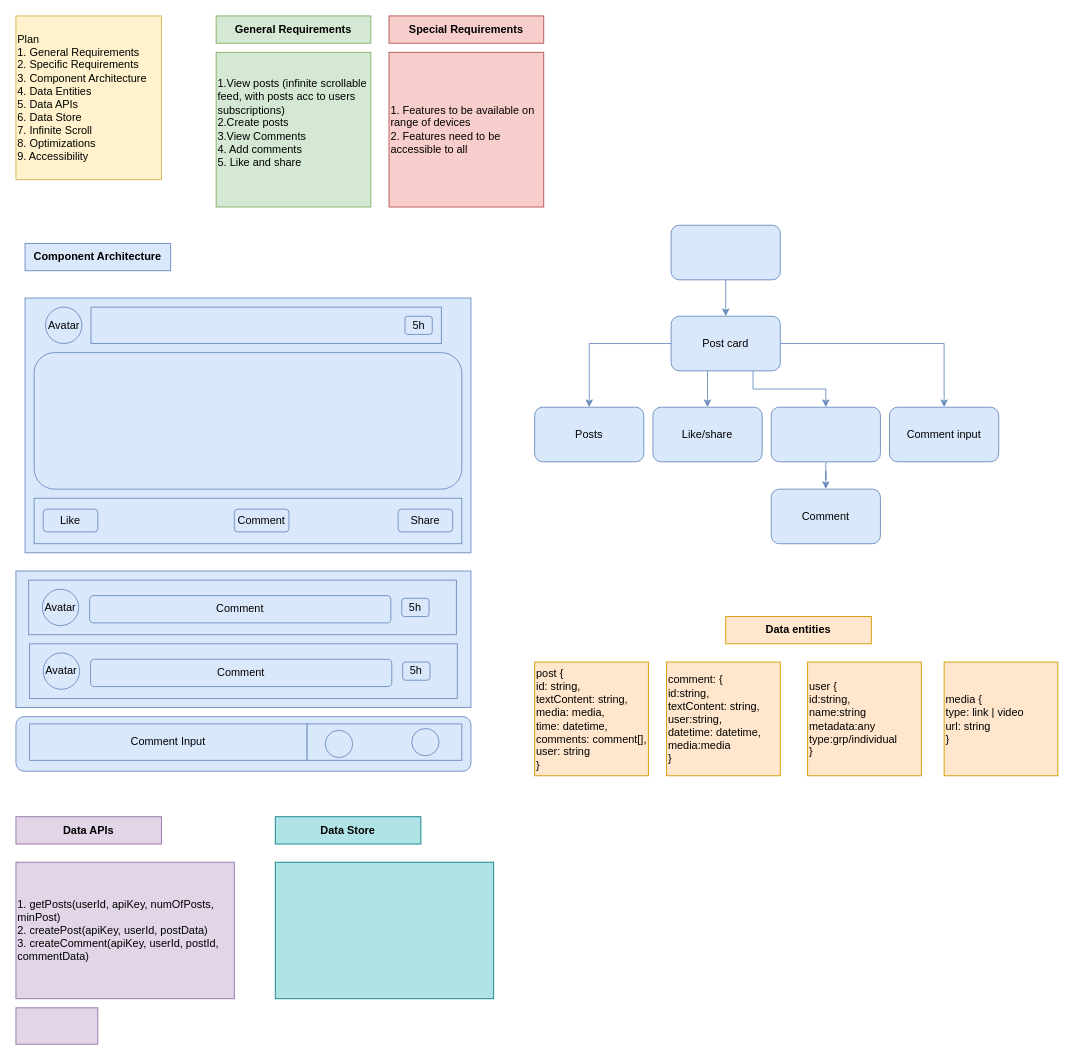
Some shapes in this 1074 by 1060 pixel diagram are drawn without their labels. Each missing label, with the box of its shape:
Comment list: (770, 406, 880, 462)
Content Image/text: (33, 352, 462, 489)
John Doe: (90, 306, 441, 344)
News feed: (670, 224, 780, 280)
REST: (15, 1007, 98, 1044)
